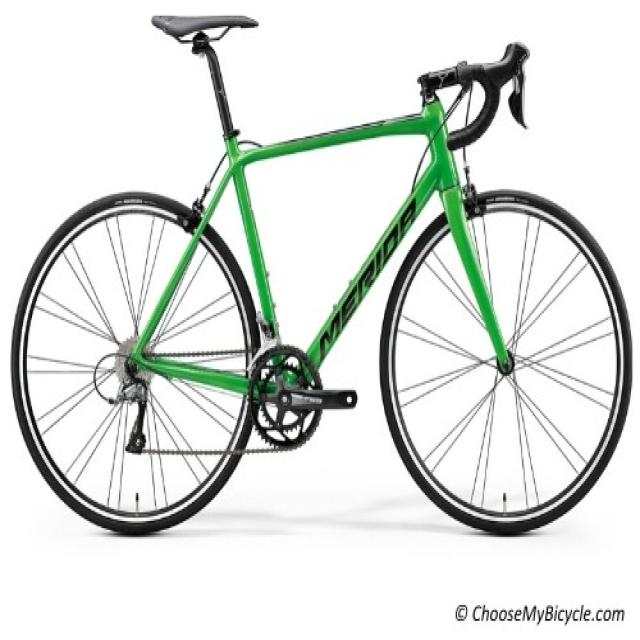bicycle: (12, 15, 631, 534)
